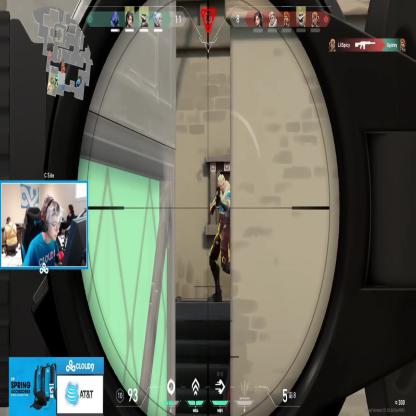enemy: (208, 174, 239, 303)
enemy_head: (218, 175, 226, 193)
